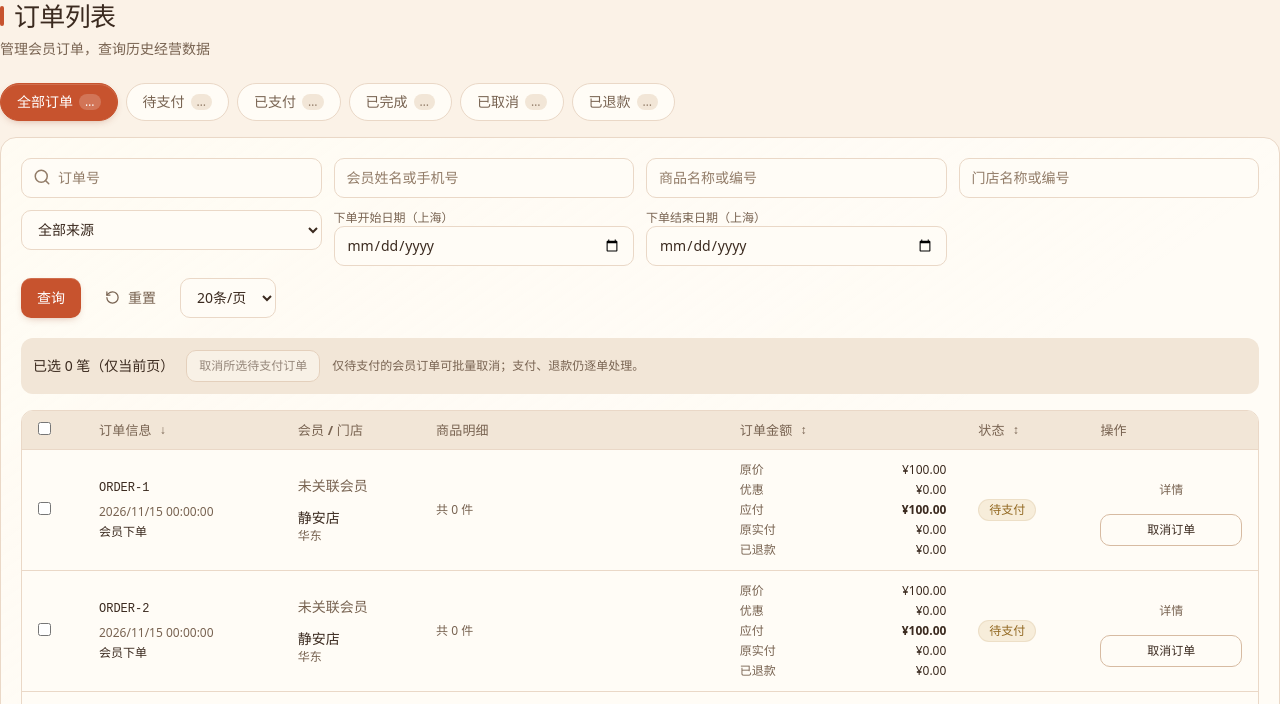
Scenario: 全选只批量取消可取消订单，失败订单保留并可明确重试
The image size is (1280, 704).
What coordinates should you click on to do the following:
click the checkbox named "选择本页全部订单"
I would click on:
 (44, 428)
Its box is [38, 422, 51, 434].
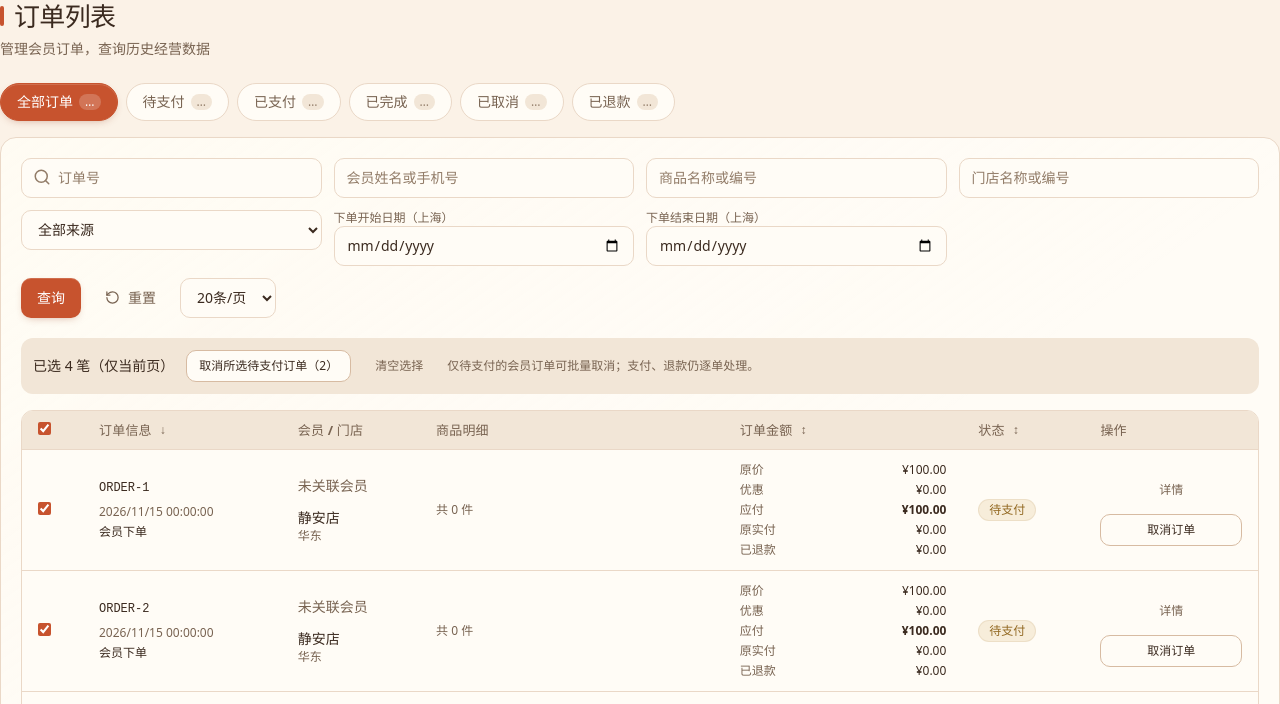
Expected: the text "已选 4 笔（仅当前页）" is shown, [33, 356, 174, 376]
What coordinates should you click on to do the following:
click the button "取消所选待支付订单（2）"
I would click on:
 (269, 366)
Its box is [186, 350, 351, 382].
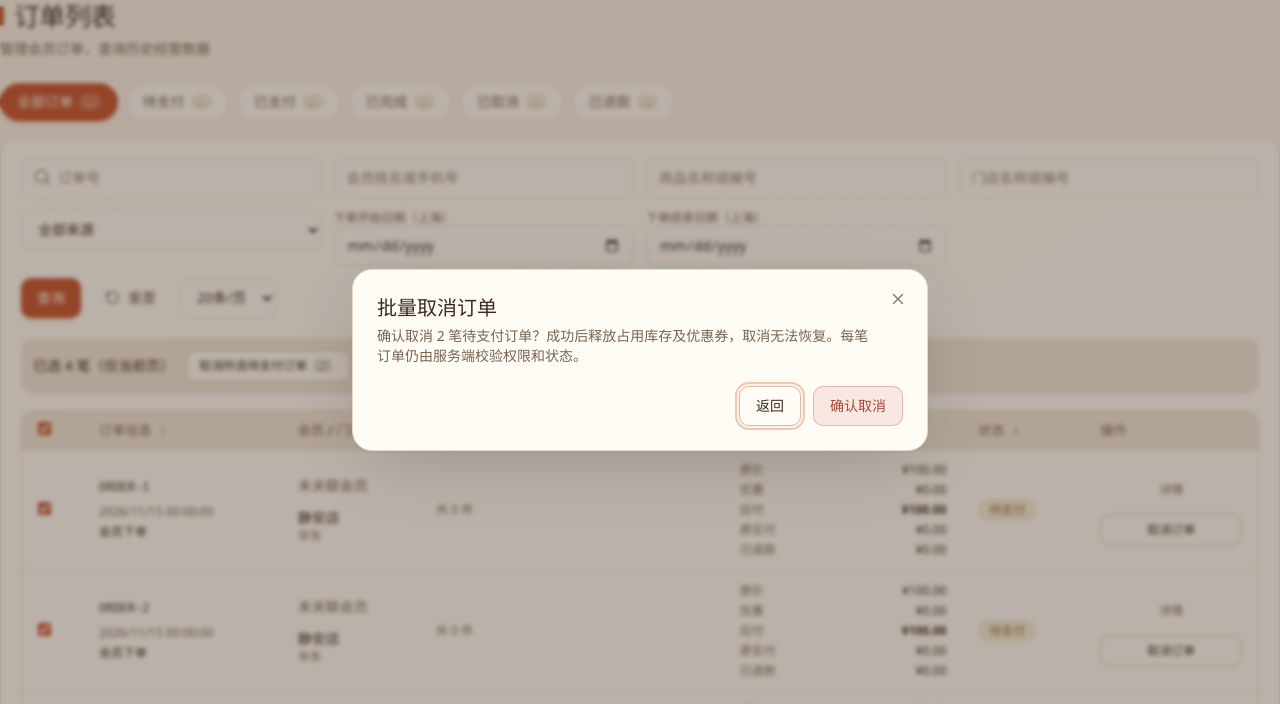
What coordinates should you click on to do the following:
click the button "确认取消"
I would click on:
 (858, 406)
Its box is [813, 386, 903, 426].
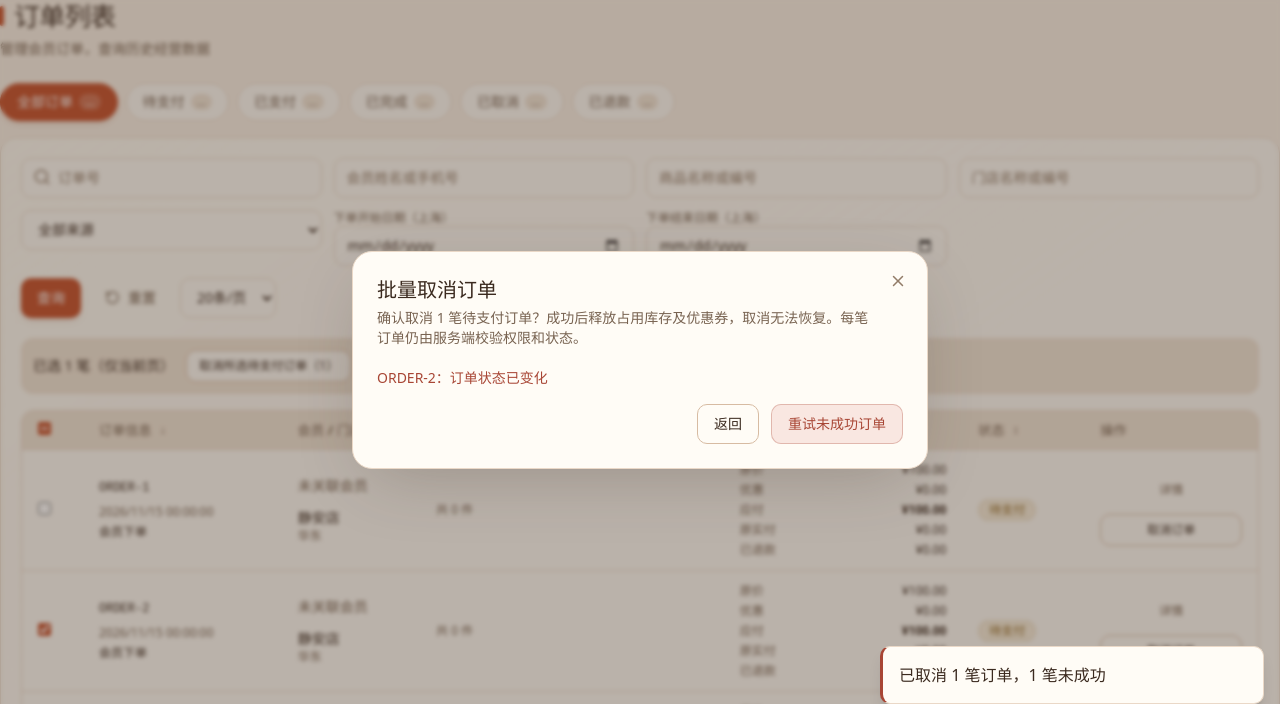
Expected: the checkbox named "选择订单ORDER-2" is checked, [38, 623, 51, 636]
Expected: the text "ORDER-2：订单状态已变化" is shown, [377, 368, 548, 387]
